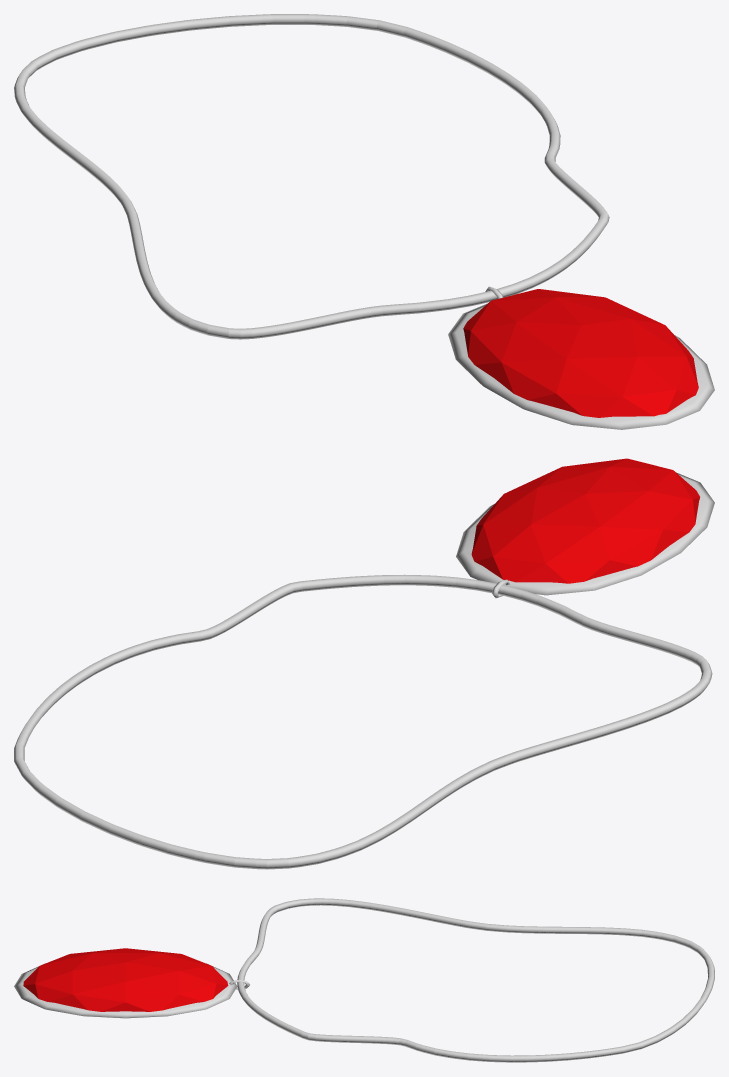
The model's file is necklace.fbx.
3 renders of one model, top to bottom at view 1: azimuth 30°, elevation 25°; view 2: azimuth 150°, elevation 25°; view 3: azimuth 270°, elevation 25°, orthographic. The views are drawn at different scales.
Parts seen in each view (by area): view 1: Torus; view 2: Torus; view 3: Torus.
Boxes of the visible parts, x1,y1,x2,y2 form: Torus: (14, 14, 714, 429); Torus: (14, 458, 714, 869); Torus: (14, 898, 714, 1062).
Size of the model in its own units: 427 by 790 by 38.4.
